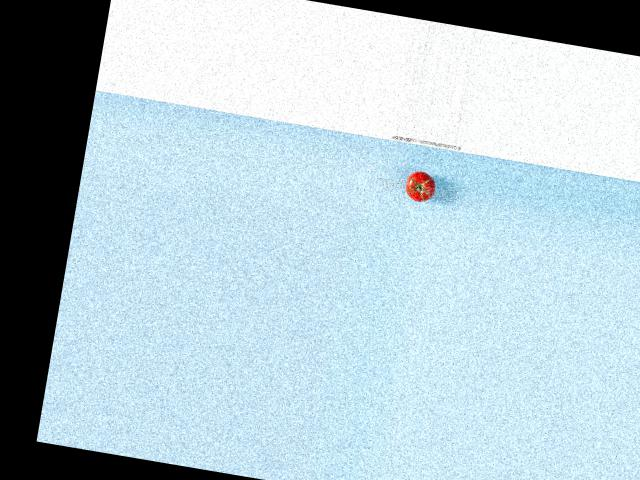tomato: (403, 168, 436, 203)
